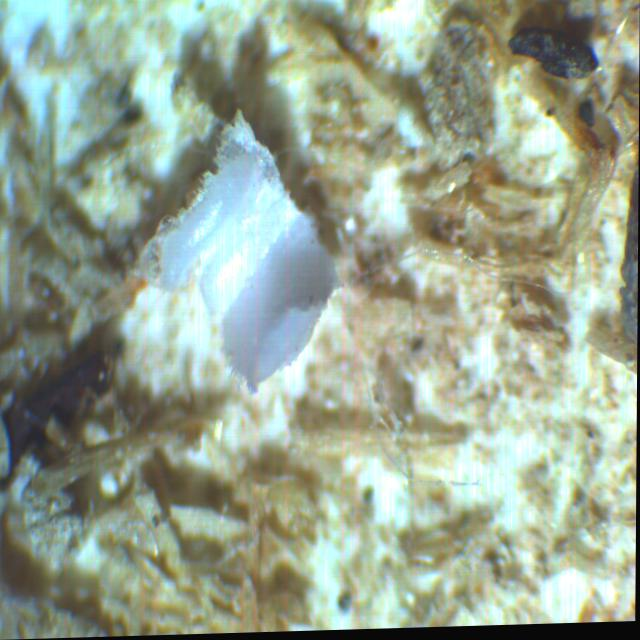microplastic: (99, 99, 405, 406)
